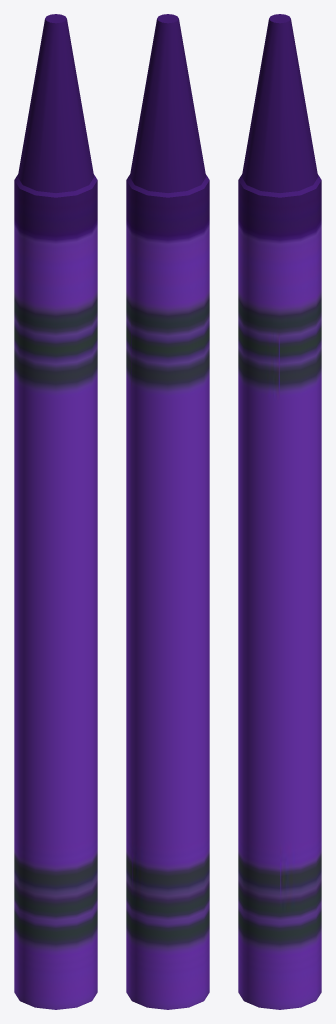
Rendered from toy_crayon_violet.glb.
3 views of the same model, side by side, from view 1: azimuth 90°, elevation 25°; view 2: azimuth 210°, elevation 25°; view 3: azimuth 270°, elevation 25° (orthographic).
Parts seen in each view (by area): view 1: toy_crayon_violet; view 2: toy_crayon_violet; view 3: toy_crayon_violet.
Part boxes in pixels (x1,y1,x2,y2): toy_crayon_violet: (14, 14, 97, 1009); toy_crayon_violet: (126, 14, 209, 1009); toy_crayon_violet: (238, 14, 321, 1009).
Bounding box in the file's own units: 1.24 × 16 × 1.24.
Materials: 1 (1 with a texture image).
